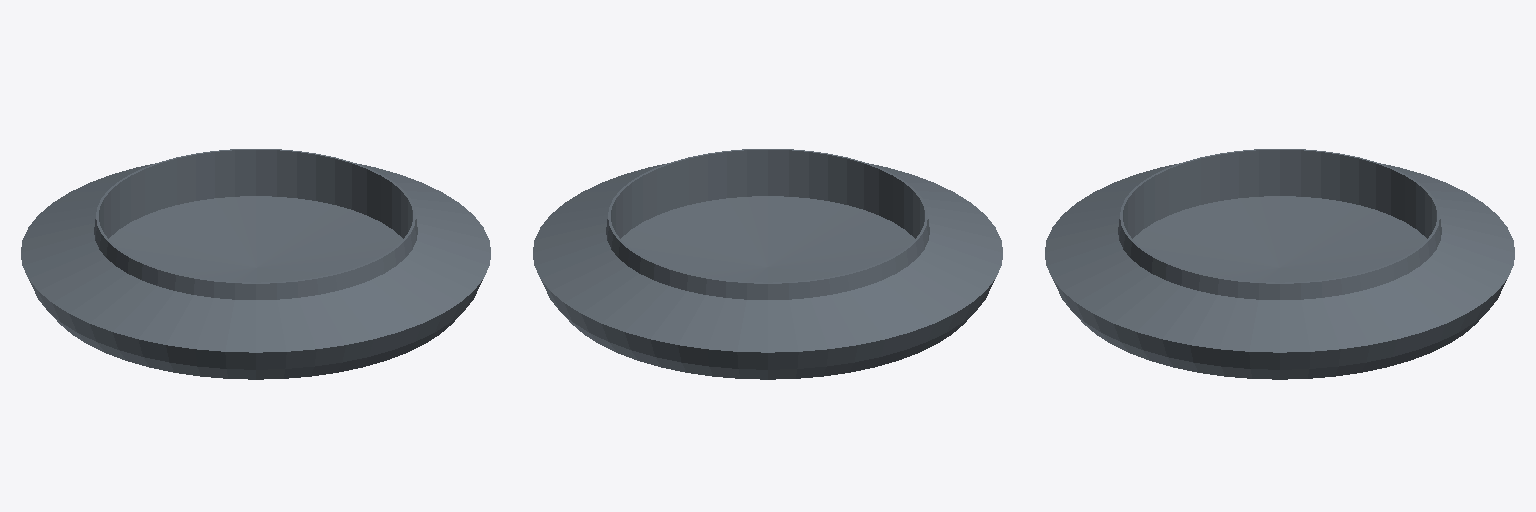
Rendered from nave.obj.
3 views of the same model, side by side, from view 1: azimuth 30°, elevation 25°; view 2: azimuth 150°, elevation 25°; view 3: azimuth 270°, elevation 25° (orthographic).
Visible parts, largest first — view 1: ship; view 2: ship; view 3: ship.
Part boxes in pixels (x1,y1,x2,y2): ship: (21, 149, 490, 379); ship: (533, 149, 1002, 379); ship: (1045, 149, 1514, 379).
Size of the model in its own units: 2.5 by 0.4669 by 2.5.